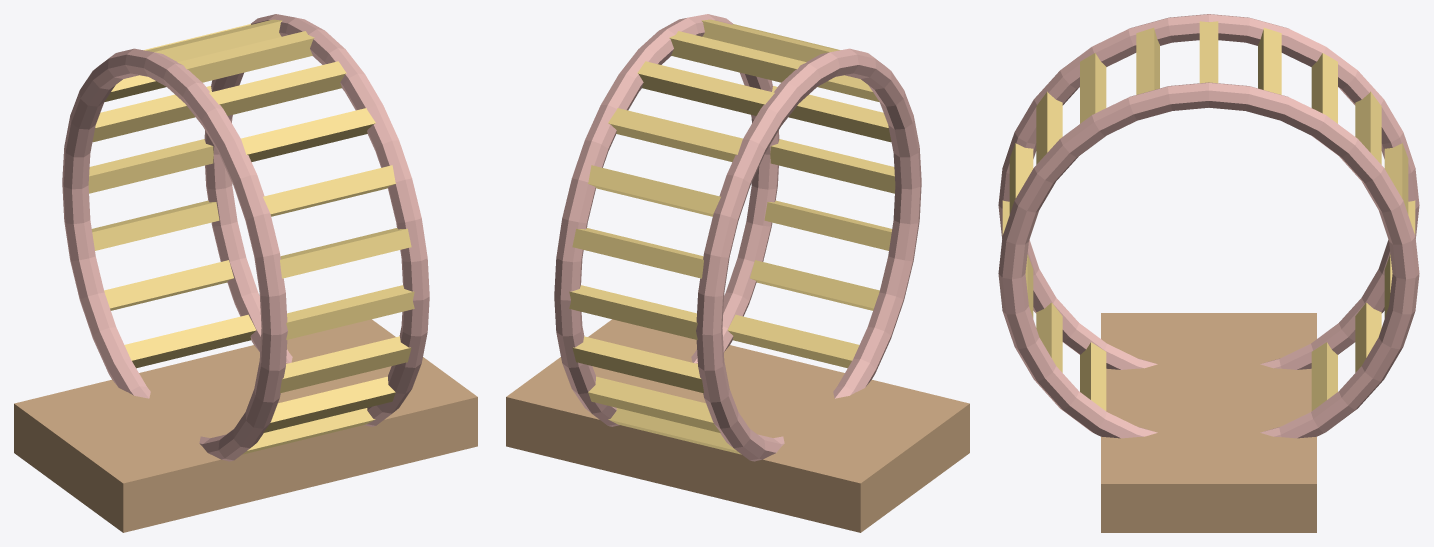
Rendered from wheel.glb.
3 renders of one model, left to right at view 1: azimuth 30°, elevation 25°; view 2: azimuth 150°, elevation 25°; view 3: azimuth 270°, elevation 25°, orthographic.
Parts seen in each view (by area): view 1: wheel stand, wheel tread, Torus.007; view 2: wheel stand, wheel tread, Torus.007; view 3: wheel stand, Torus.007, wheel tread.
Boxes of the visible parts, x1=… form: wheel stand: x1=14, y1=319, x2=477, y2=532; wheel tread: x1=88, y1=19, x2=414, y2=454; Torus.007: x1=62, y1=14, x2=429, y2=461; wheel stand: x1=506, y1=319, x2=969, y2=532; wheel tread: x1=569, y1=19, x2=895, y2=454; Torus.007: x1=554, y1=14, x2=921, y2=461; wheel stand: x1=1101, y1=313, x2=1316, y2=532; Torus.007: x1=998, y1=14, x2=1419, y2=438; wheel tread: x1=1002, y1=21, x2=1415, y2=410.
Size of the model in its own units: 1.5 by 1.63 by 1.56.
